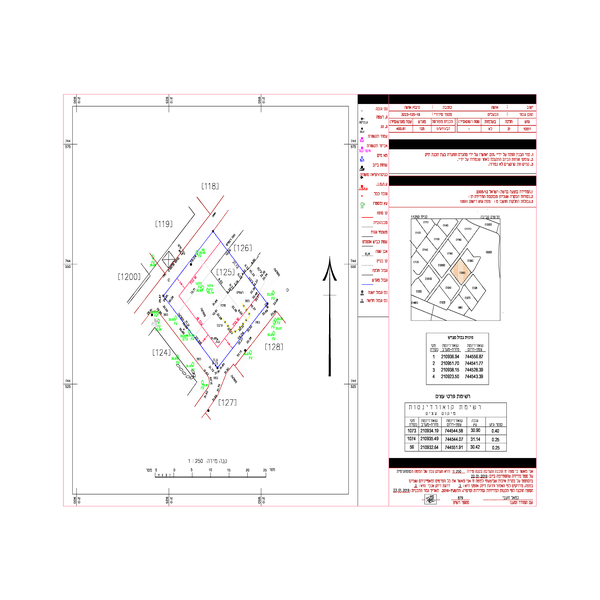wall: (386, 172, 545, 193)
